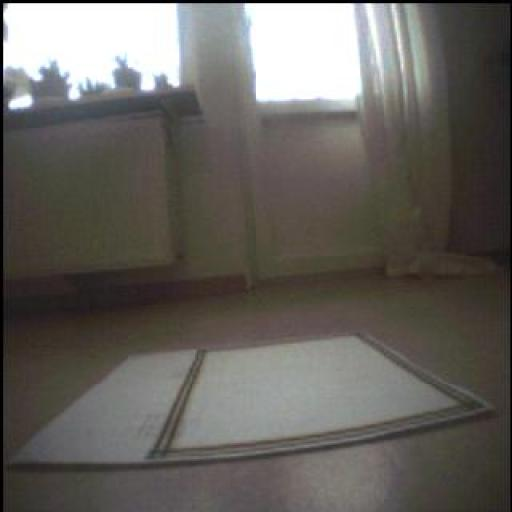Pad: (12, 336, 492, 469)
